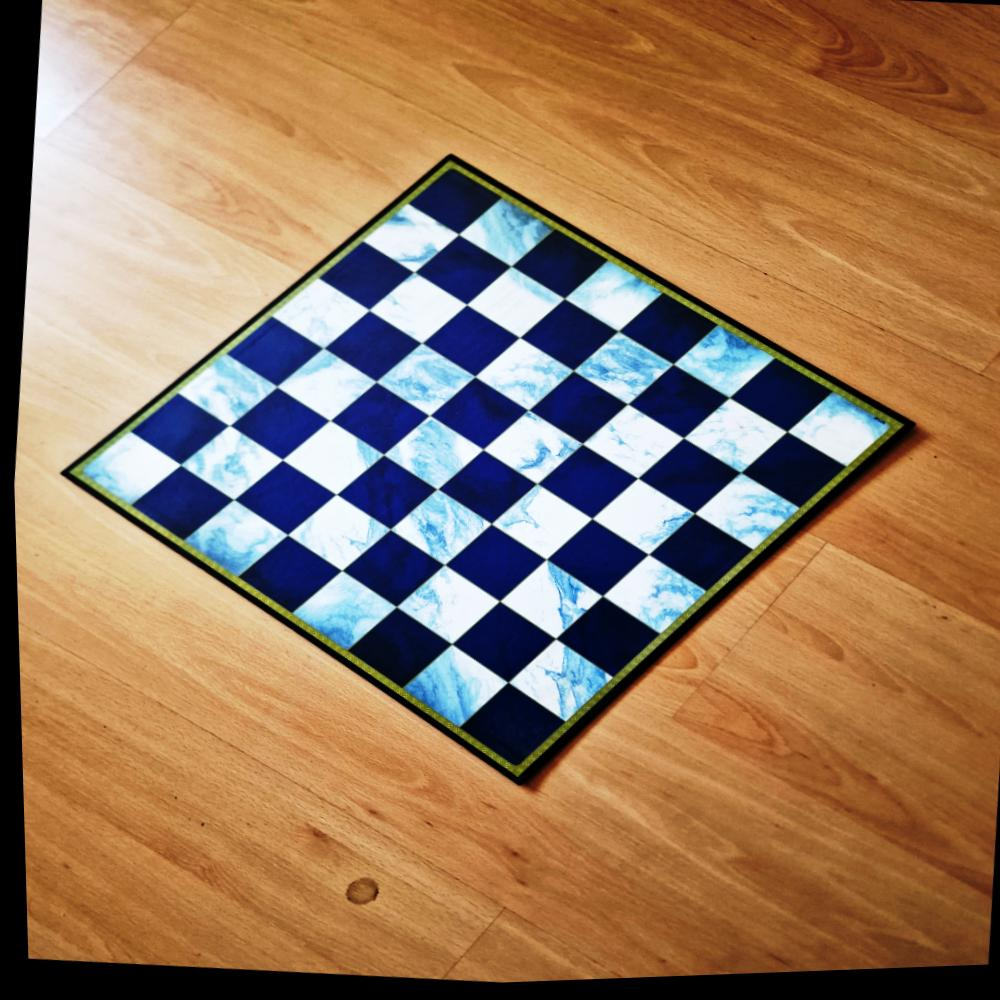chessfield: (781, 392, 911, 491), (498, 640, 618, 739), (57, 431, 186, 522), (595, 556, 714, 652), (687, 473, 804, 568), (390, 642, 506, 737), (450, 683, 560, 783), (550, 600, 659, 694), (389, 563, 500, 654), (492, 560, 602, 651), (584, 480, 695, 569), (177, 497, 288, 586), (677, 399, 787, 488), (573, 403, 685, 490), (646, 516, 755, 605), (285, 575, 396, 662), (449, 607, 559, 693), (669, 329, 779, 415), (736, 437, 845, 523), (341, 608, 447, 696), (277, 420, 384, 507), (232, 535, 339, 622), (283, 496, 391, 582), (170, 351, 279, 436), (175, 427, 281, 514), (475, 409, 582, 495), (385, 491, 492, 577), (558, 261, 666, 346), (269, 276, 378, 360), (543, 520, 648, 607), (487, 488, 594, 573), (378, 417, 486, 501), (268, 349, 376, 433), (337, 532, 441, 618), (469, 338, 574, 423), (369, 342, 475, 426), (634, 442, 740, 526), (126, 464, 232, 548), (350, 200, 457, 282), (441, 524, 545, 608), (461, 267, 566, 350), (728, 359, 831, 443), (231, 461, 334, 545), (334, 455, 437, 539), (624, 369, 729, 451), (565, 332, 671, 413), (532, 446, 635, 529), (452, 199, 556, 281), (364, 273, 468, 355), (227, 385, 330, 467), (430, 451, 533, 533), (327, 383, 430, 464), (124, 391, 225, 473), (312, 238, 415, 318), (616, 295, 718, 375), (518, 299, 619, 379), (418, 308, 519, 388), (524, 375, 625, 455), (424, 378, 525, 458), (319, 312, 421, 391), (219, 313, 321, 391), (510, 231, 610, 310), (402, 165, 502, 243), (413, 235, 510, 314)
